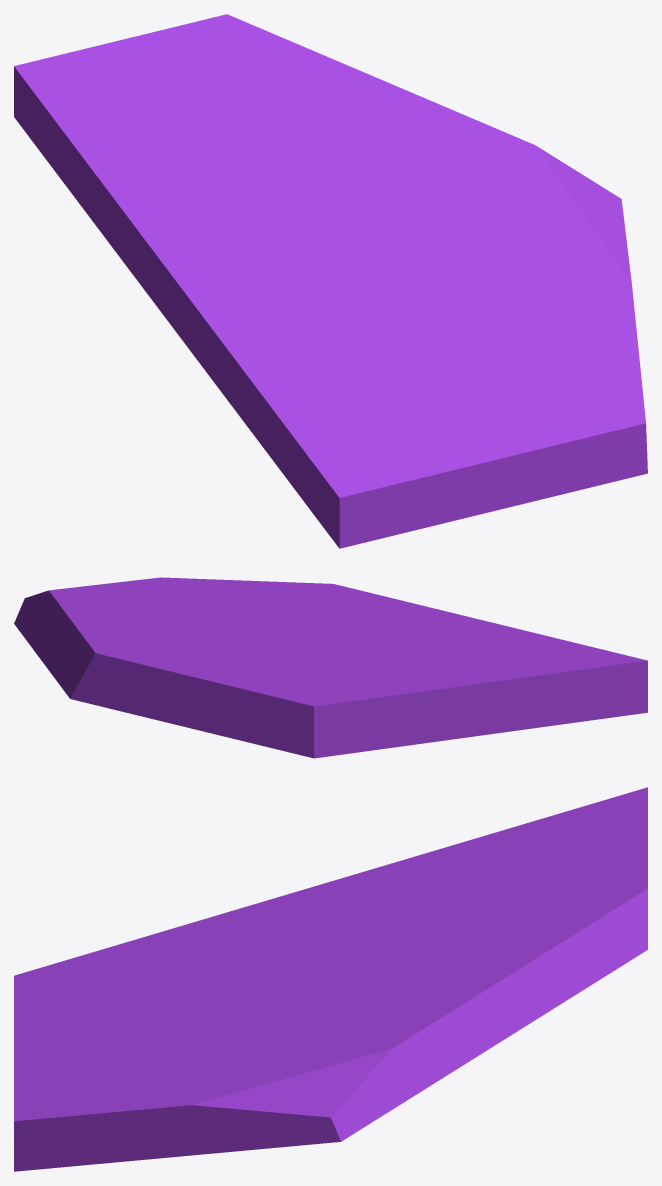
Rendered from Window_154_1_chunks.fbx.
The picture shows the model from 3 angles, top to bottom: view 1: azimuth 30°, elevation 25°; view 2: azimuth 150°, elevation 25°; view 3: azimuth 270°, elevation 25°; orthographic projection. The views are drawn at different scales.
Visible parts, largest first — view 1: Window_154_1_8, Window_154_1_1, Window_154_1_0, Window_154_1_10, Window_154_1_22, Window_154_1_11, Window_154_1_7, Window_154_1_23, Window_154_1_17, Window_154_1_9, Window_154_1_19, Window_154_1_16 (+9 smaller); view 2: Window_154_1_8, Window_154_1_17, Window_154_1_1, Window_154_1_11, Window_154_1_19, Window_154_1_0, Window_154_1_10, Window_154_1_9, Window_154_1_16, Window_154_1_23, Window_154_1_22, Window_154_1_7 (+9 smaller); view 3: Window_154_1_8, Window_154_1_11, Window_154_1_9, Window_154_1_0, Window_154_1_10, Window_154_1_7, Window_154_1_22, Window_154_1_25, Window_154_1_1, Window_154_1_23, Window_154_1_24, Window_154_1_17 (+12 smaller).
Part boxes in pixels (x1=…): Window_154_1_8: x1=14, y1=19, x2=284, y2=175; Window_154_1_1: x1=266, y1=402, x2=507, y2=548; Window_154_1_0: x1=310, y1=297, x2=493, y2=432; Window_154_1_10: x1=163, y1=126, x2=457, y2=243; Window_154_1_22: x1=512, y1=333, x2=647, y2=483; Window_154_1_11: x1=205, y1=14, x2=426, y2=138; Window_154_1_7: x1=476, y1=150, x2=619, y2=283; Window_154_1_23: x1=415, y1=252, x2=572, y2=360; Window_154_1_17: x1=167, y1=304, x2=315, y2=451; Window_154_1_9: x1=351, y1=99, x2=542, y2=209; Window_154_1_19: x1=55, y1=153, x2=252, y2=309; Window_154_1_16: x1=117, y1=202, x2=240, y2=325; Window_154_1_8: x1=70, y1=647, x2=380, y2=758; Window_154_1_17: x1=465, y1=656, x2=600, y2=736; Window_154_1_1: x1=454, y1=619, x2=647, y2=722; Window_154_1_11: x1=55, y1=612, x2=201, y2=697; Window_154_1_19: x1=345, y1=663, x2=463, y2=752; Window_154_1_0: x1=318, y1=620, x2=542, y2=660; Window_154_1_10: x1=171, y1=613, x2=350, y2=678; Window_154_1_9: x1=39, y1=590, x2=187, y2=677; Window_154_1_16: x1=411, y1=669, x2=514, y2=737; Window_154_1_23: x1=208, y1=592, x2=380, y2=625; Window_154_1_22: x1=258, y1=581, x2=451, y2=612; Window_154_1_7: x1=23, y1=581, x2=233, y2=611; Window_154_1_8: x1=467, y1=787, x2=647, y2=950; Window_154_1_11: x1=456, y1=878, x2=647, y2=1001; Window_154_1_9: x1=336, y1=957, x2=564, y2=1069; Window_154_1_0: x1=48, y1=954, x2=267, y2=1046; Window_154_1_10: x1=308, y1=868, x2=490, y2=1014; Window_154_1_7: x1=211, y1=1027, x2=389, y2=1118; Window_154_1_22: x1=14, y1=1051, x2=149, y2=1171; Window_154_1_25: x1=53, y1=1114, x2=268, y2=1167; Window_154_1_1: x1=14, y1=949, x2=141, y2=1053; Window_154_1_23: x1=133, y1=997, x2=295, y2=1076; Window_154_1_24: x1=75, y1=1073, x2=255, y2=1122; Window_154_1_17: x1=104, y1=900, x2=283, y2=954.
Bounding box in the file's own units: 930 × 482 × 1165.
